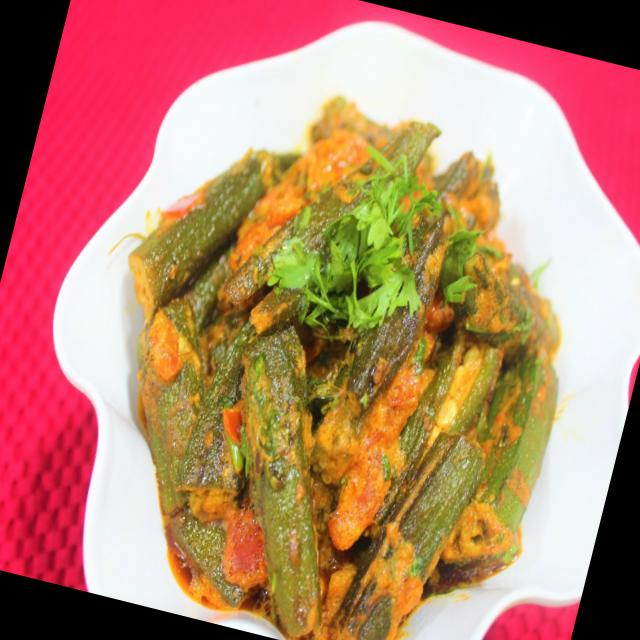BhindiMasala: (46, 55, 617, 640)
